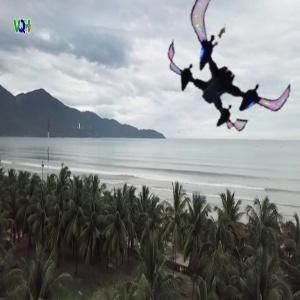drone: (161, 10, 296, 145)
